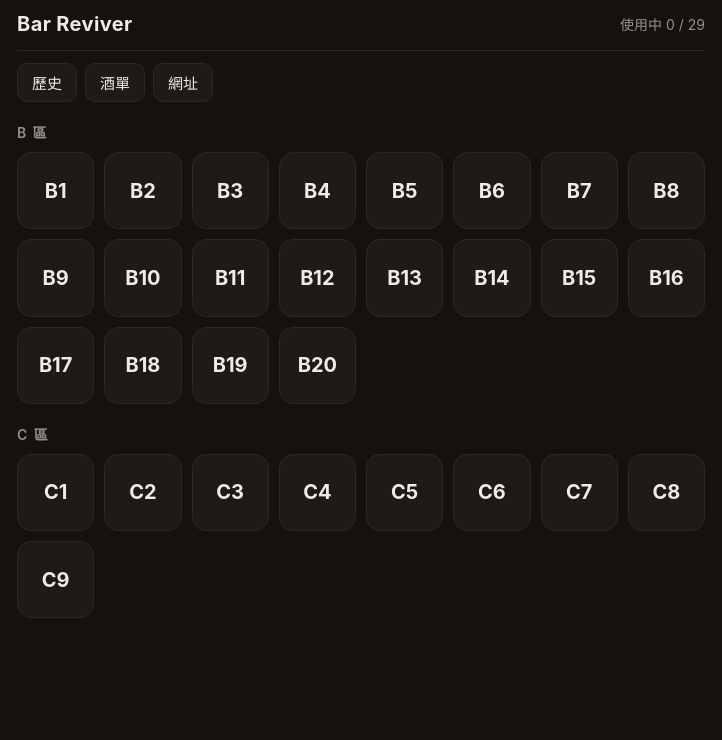
Test: T6 驗收：酒單後台 › 同分類重複名稱顯示錯誤
Click the button "酒單" at (115, 82), box [85,63,145,102]
(page scrolled)
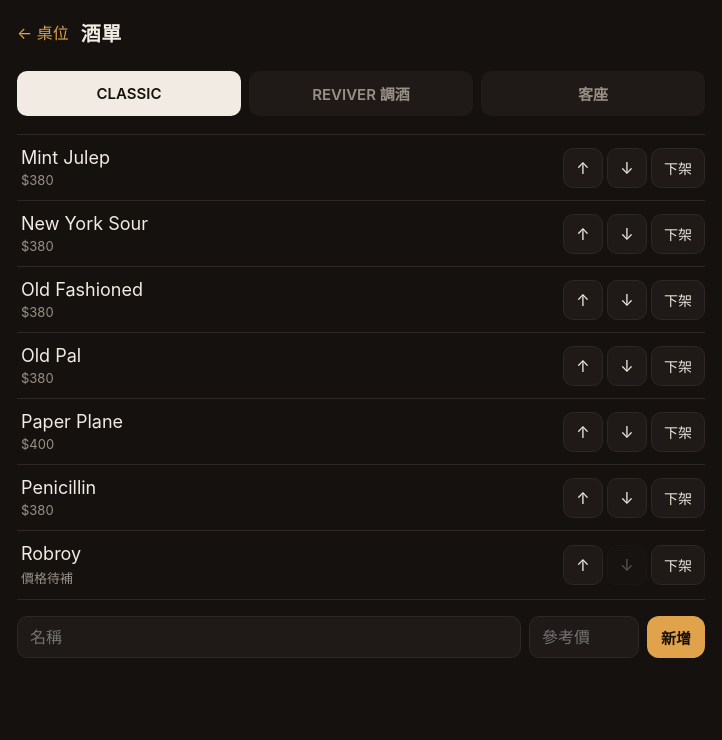
Type "Manhattan" into the field labelled "名稱" at (269, 637), box [17,616,521,658]
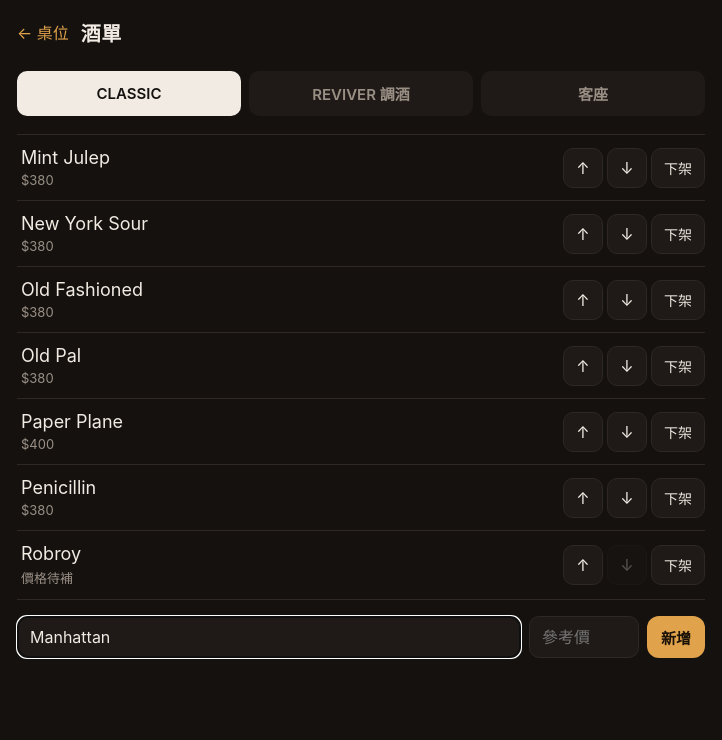
Click the button "新增" at (676, 637), box [647,616,705,658]
(page scrolled)
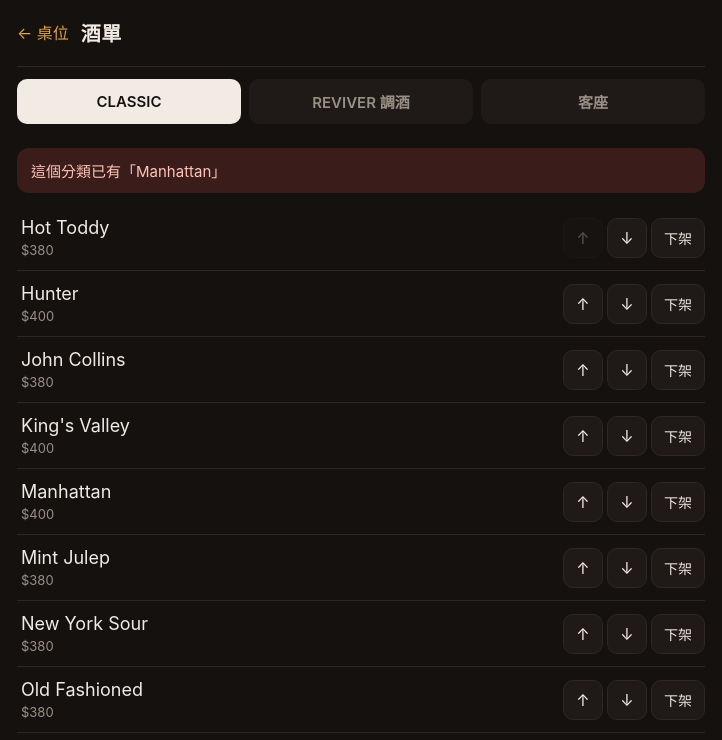
Check: the message reads "這個分類已有「Manhattan」", box [31,162,226,181]
